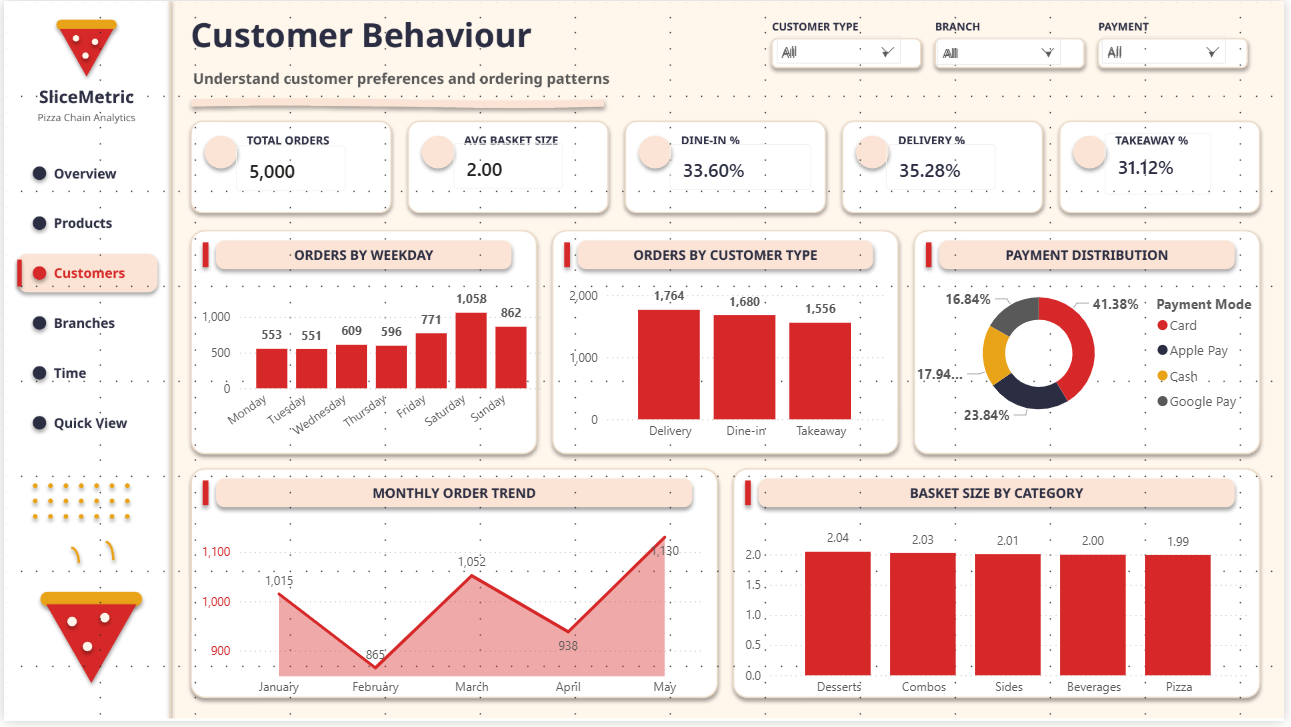

The page's visual inventory and layout, read from the dashboard file:
{"tool":"powerbi","page":{"name":"Customer Behaviour","canvas":[1280,720],"ordinal":3},"visuals":[{"type":"cardVisual","fields":{"Data":["_Measures.Total Orders"]},"box":[215,128,144,80],"z":0},{"type":"cardVisual","fields":{"Data":["_Measures.Avg Basket Size"]},"box":[432,125,144,80],"z":1000},{"type":"cardVisual","fields":{"Data":["_Measures.Dine-in %"]},"box":[649,126,176,80],"z":2000},{"type":"cardVisual","fields":{"Data":["_Measures.Delivery %"]},"box":[865,126,144,80],"z":3000},{"type":"cardVisual","fields":{"Data":["_Measures.Takeaway %"]},"box":[1084,115,141,96],"z":4000},{"type":"clusteredColumnChart","fields":{"Category":["Date.Day Name"],"Y":["_Measures.Total Orders"]},"box":[192,272,352,176],"z":5000},{"type":"clusteredColumnChart","fields":{"Category":["Orders.Customer Type"],"Y":["_Measures.Total Orders"]},"box":[560,272,320,176],"z":6000},{"type":"areaChart","fields":{"Y":["_Measures.Total Orders"],"Category":["Date.Month"]},"box":[192,512,512,192],"z":7000},{"type":"clusteredColumnChart","fields":{"Category":["Orders.Category"],"Y":["_Measures.Avg Basket Size"]},"box":[736,512,512,192],"z":8000},{"type":"slicer","fields":{"Values":["Orders.Customer Type"]},"box":[762,25,144,80],"z":9000},{"type":"slicer","fields":{"Values":["Orders.Branch"]},"box":[923,26,144,80],"z":10000},{"type":"slicer","fields":{"Values":["Orders.Payment Mode"]},"box":[1088,25,144,80],"z":11000},{"type":"donutChart","fields":{"Category":["Orders.Payment Mode"],"Y":["_Measures.Total Orders"]},"box":[912,272,352,160],"z":12000},{"type":"actionButton","box":[16,160,144,32],"z":13000},{"type":"actionButton","box":[0,208,144,32],"z":14000},{"type":"actionButton","box":[0,304,144,32],"z":15000},{"type":"actionButton","box":[6,359,144,28],"z":16000},{"type":"actionButton","box":[16,400,144,32],"z":17000}]}

Visuals, with their boxes on the page's 1280x720 design canvas (x1, y1, x2, y2). These are canvas units, not pixel positions in the 1291x727 screenshot, which may show the page scaled, cropped or inside an application window:
cardVisual - _Measures.Total Orders: 215, 128, 359, 208
cardVisual - _Measures.Avg Basket Size: 432, 125, 576, 205
cardVisual - _Measures.Dine-in %: 649, 126, 825, 206
cardVisual - _Measures.Delivery %: 865, 126, 1009, 206
cardVisual - _Measures.Takeaway %: 1084, 115, 1225, 211
clusteredColumnChart - Date.Day Name x _Measures.Total Orders: 192, 272, 544, 448
clusteredColumnChart - Orders.Customer Type x _Measures.Total Orders: 560, 272, 880, 448
areaChart - _Measures.Total Orders x Date.Month: 192, 512, 704, 704
clusteredColumnChart - Orders.Category x _Measures.Avg Basket Size: 736, 512, 1248, 704
slicer - Orders.Customer Type: 762, 25, 906, 105
slicer - Orders.Branch: 923, 26, 1067, 106
slicer - Orders.Payment Mode: 1088, 25, 1232, 105
donutChart - Orders.Payment Mode x _Measures.Total Orders: 912, 272, 1264, 432
actionButton: 16, 160, 160, 192
actionButton: 0, 208, 144, 240
actionButton: 0, 304, 144, 336
actionButton: 6, 359, 150, 387
actionButton: 16, 400, 160, 432
